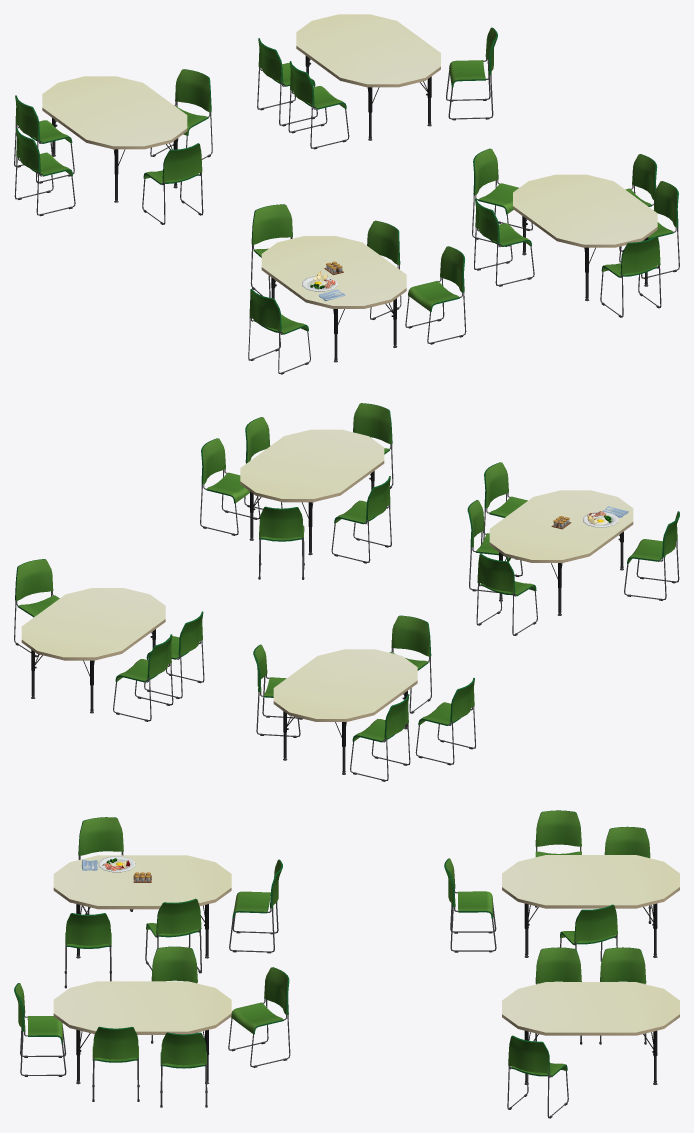
The model's file is CR_caf_Chair_001_Merged.fbx.
3 views of the same model, one above another, from view 1: azimuth 30°, elevation 25°; view 2: azimuth 150°, elevation 25°; view 3: azimuth 270°, elevation 25° (orthographic). The views are drawn at different scales.
Parts seen in each view (by area): view 1: CR_caf_Chair_001_Merged; view 2: CR_caf_Chair_001_Merged; view 3: CR_caf_Chair_001_Merged.
Boxes of the visible parts, box(x1,y1,x2,y2) form: CR_caf_Chair_001_Merged: box(14, 14, 679, 374); CR_caf_Chair_001_Merged: box(14, 403, 679, 781); CR_caf_Chair_001_Merged: box(14, 810, 679, 1118).
Bounding box in the file's own units: 449 × 69.58 × 542.
